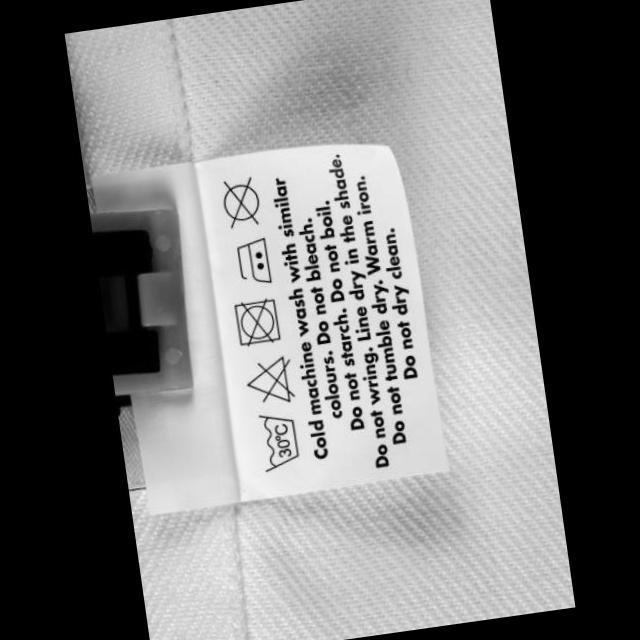30C: (252, 406, 304, 476)
DN_bleach: (241, 351, 299, 408)
DN_dry_clean: (218, 174, 266, 234)
DN_tumble_dry: (230, 293, 285, 350)
iron_medium: (230, 232, 276, 288)
